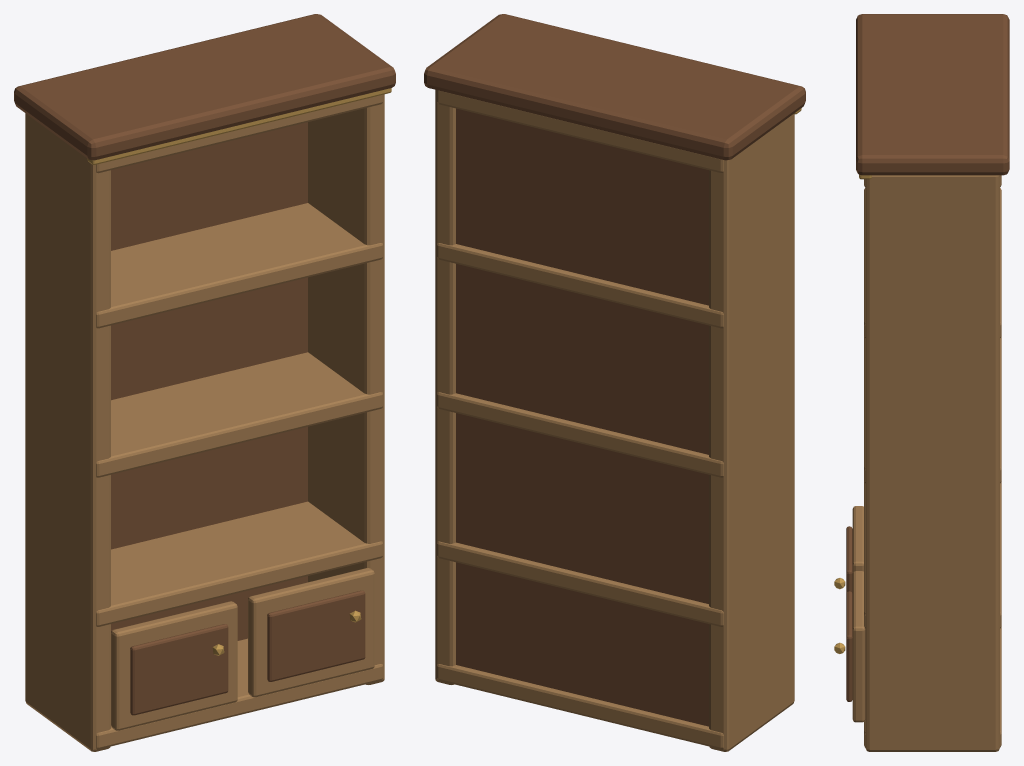
The model's file is SM_CH_Story_Bookshelf.fbx.
The picture shows the model from 3 angles, left to right: view 1: azimuth 30°, elevation 25°; view 2: azimuth 150°, elevation 25°; view 3: azimuth 270°, elevation 25°; orthographic projection. The views are drawn at different scales.
Visible parts, largest first — view 1: SM_CH_Story_Bookshelf; view 2: SM_CH_Story_Bookshelf; view 3: SM_CH_Story_Bookshelf.
Part boxes in pixels (<box>): SM_CH_Story_Bookshelf: <box>14,14,395,751</box>; SM_CH_Story_Bookshelf: <box>424,14,805,751</box>; SM_CH_Story_Bookshelf: <box>834,14,1009,751</box>.
Bounding box in the file's own units: 10800 × 5470 × 20650.
